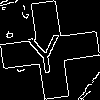Y: (25, 25, 65, 75)
